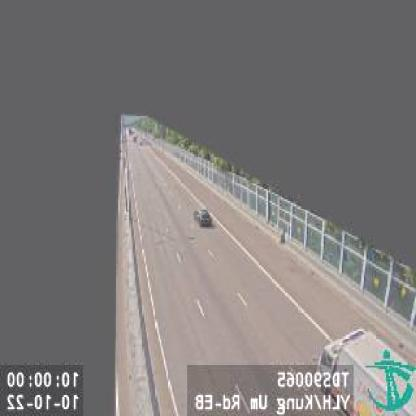Car: (194, 206, 212, 228)
Truck: (316, 329, 416, 416)
